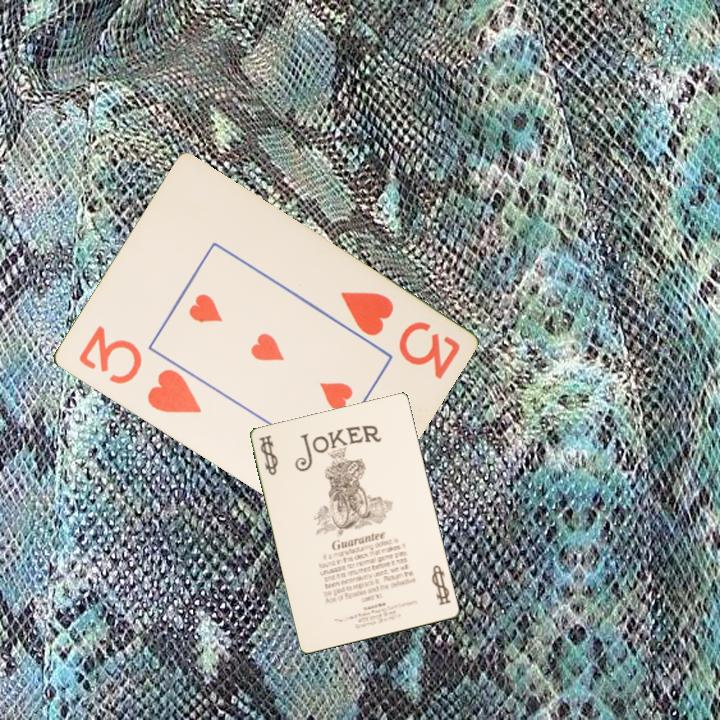3h: (74, 322, 204, 417), (336, 287, 463, 383)
JK: (428, 562, 454, 609), (256, 432, 281, 478)
